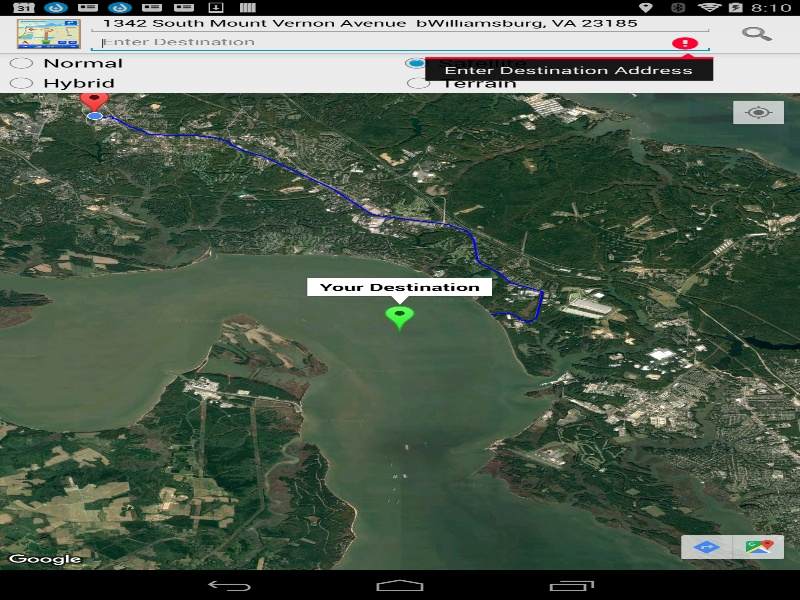Input: (86, 15, 714, 34), (86, 34, 714, 53)
